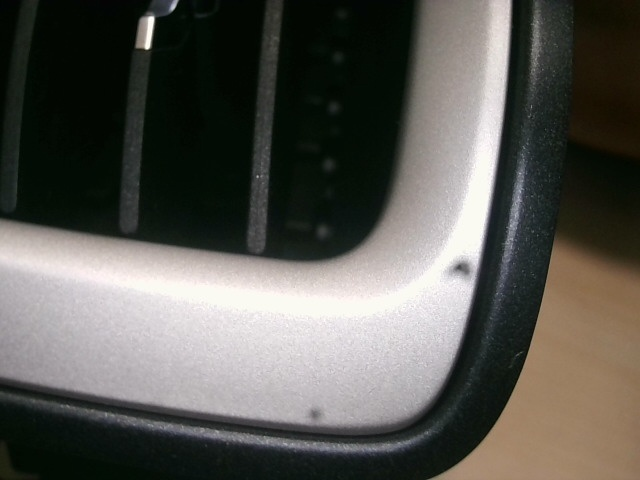NG: (358, 378, 387, 401), (512, 346, 526, 370)
